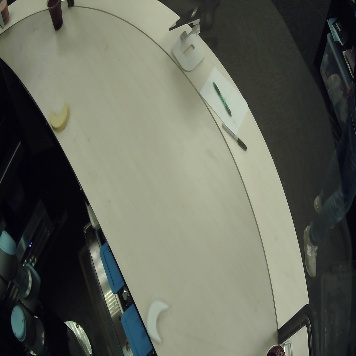full_cup: (43, 1, 67, 34), (261, 339, 293, 355), (1, 1, 12, 24)
puck: (144, 297, 170, 343), (46, 104, 72, 133)
